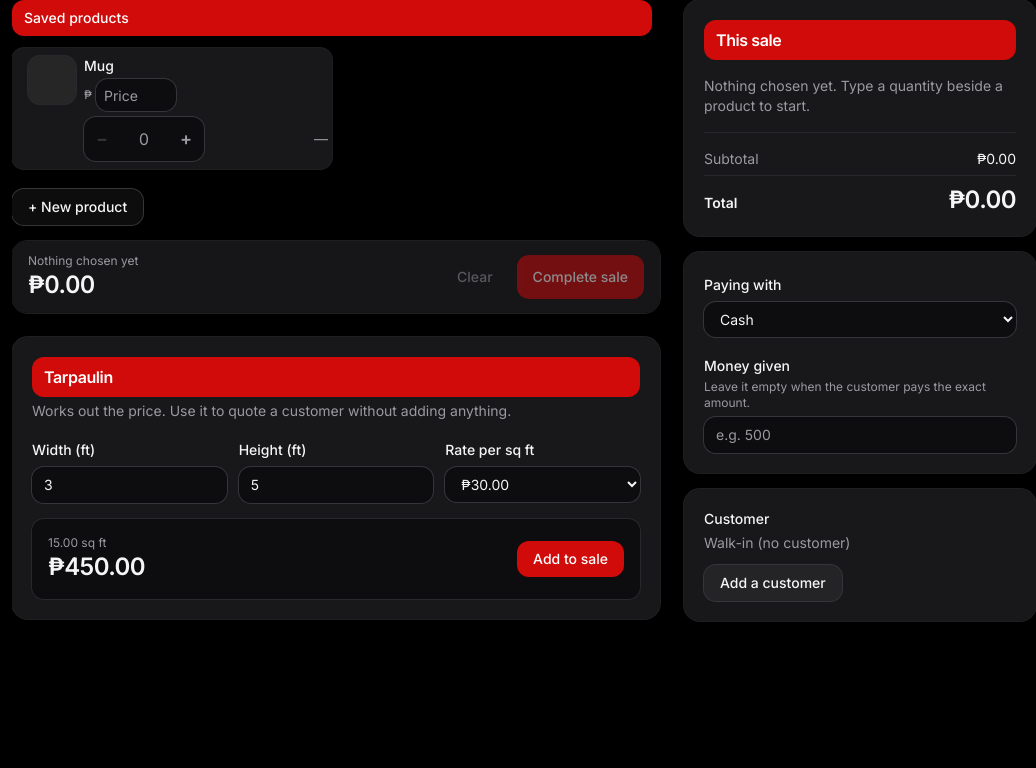
Test: the saved products list › asks for the price of a product that has none before the sale can go
Type "2" into the field with placeholder "0".
click(144, 139); type("2")  # box [120,117,168,161]
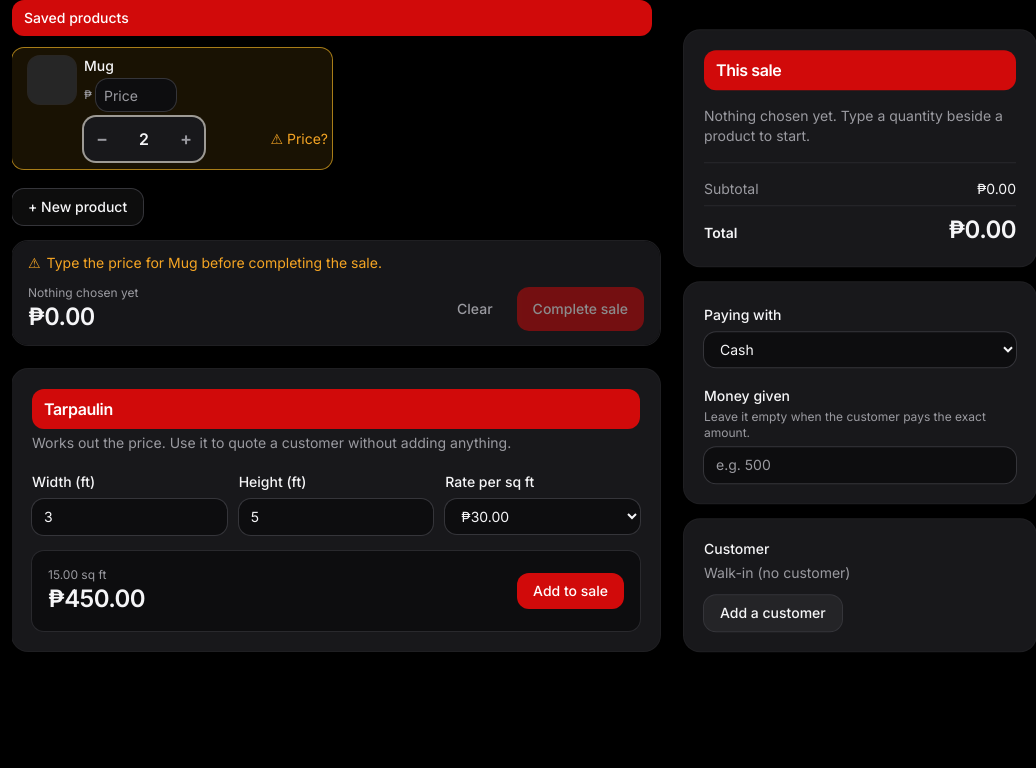
Expected: the button "Complete sale" is disabled, [517,287,644,331]
Result: the text "Type the price for Mug before completing the sale." is shown at [47,253,382,273]
Type "150" into the field named "Price each for Mug".
click(136, 95); type("150")  # box [96,79,176,111]
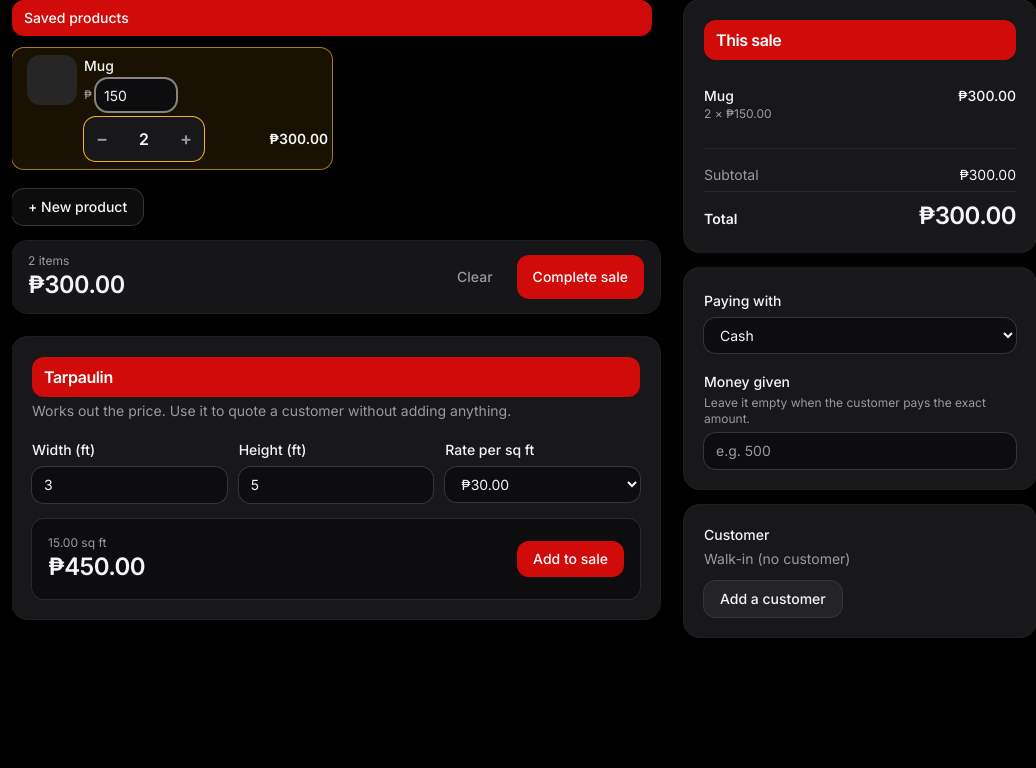
Result: the button "Complete sale" is enabled at [517,255,644,299]
